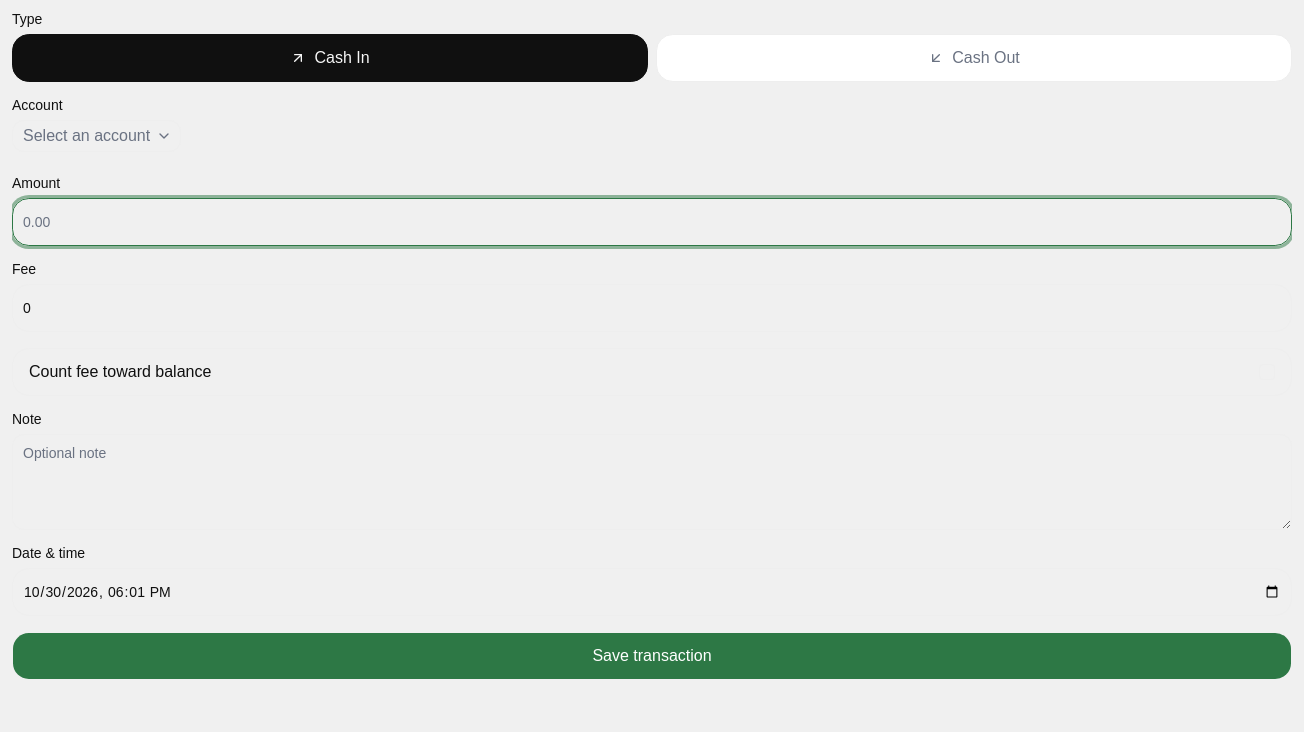
Test: TransactionForm validation › sanitizes non-numeric and negative input as you type
Type "-a5.5.5" into the field labelled "Amount" at (652, 222), box 12,198 -> 1292,246
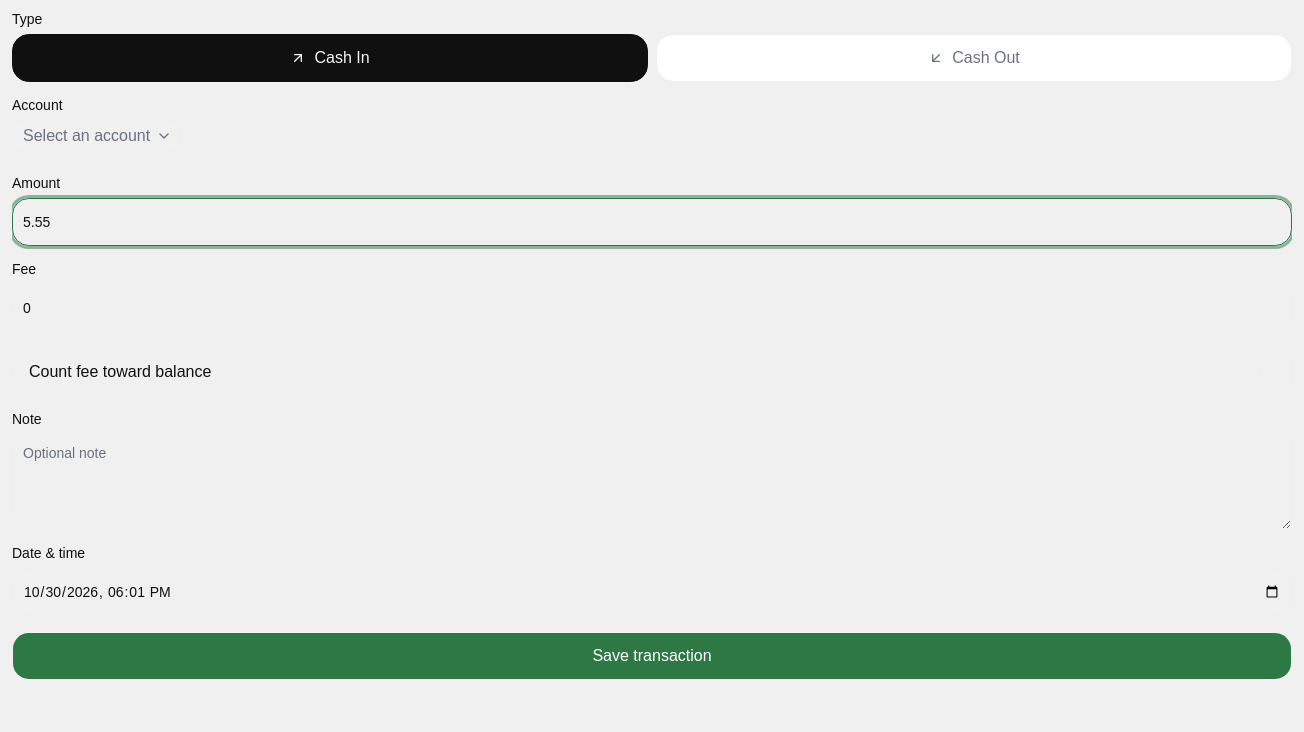
Result: the field labelled "Amount" holds "5.55" at 12,198 -> 1292,246
Type "-1" into the field labelled "Fee" at (652, 308), box 12,284 -> 1292,332
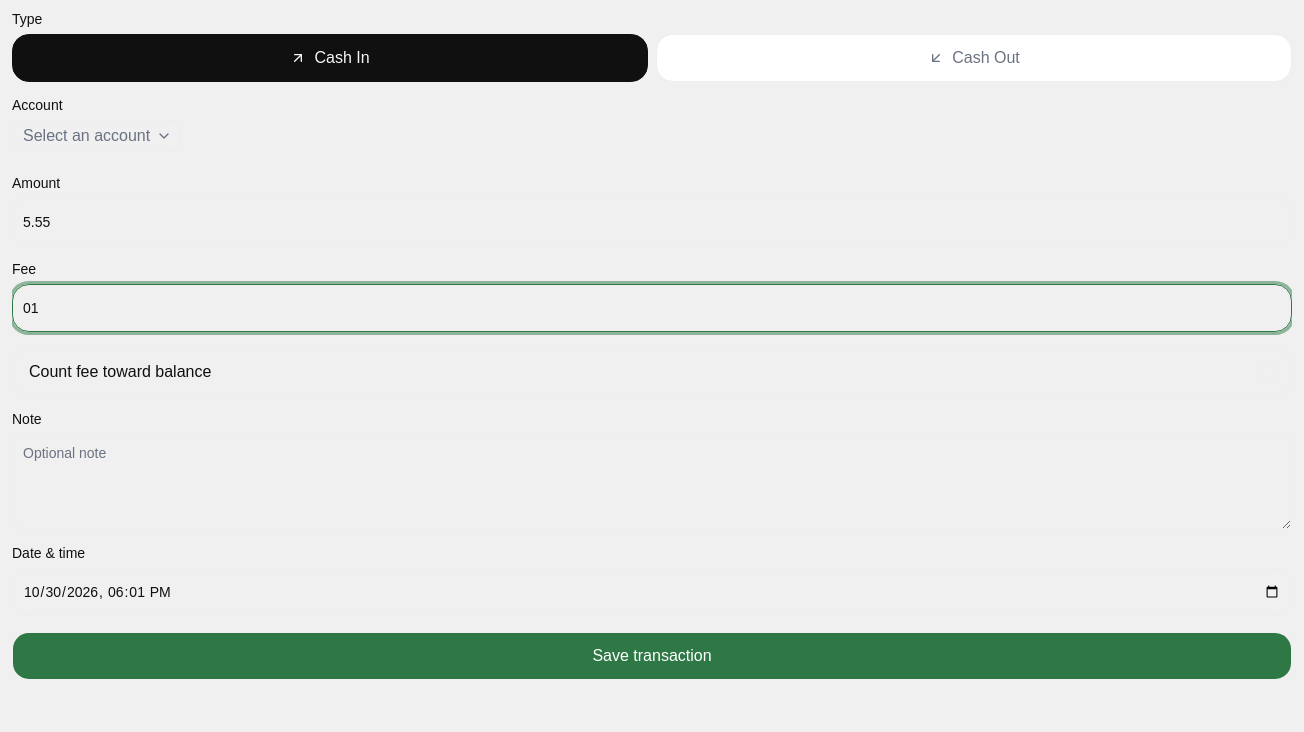
Result: the field labelled "Fee" holds "01" at 12,284 -> 1292,332
